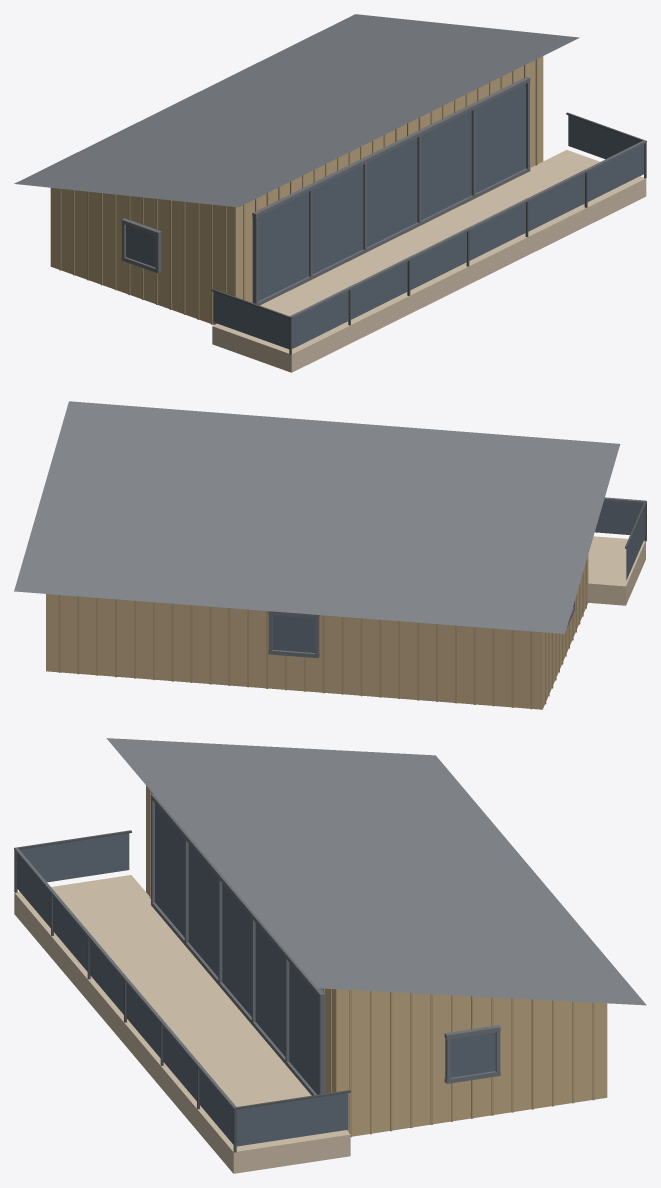
3 renders of one model, top to bottom at view 1: azimuth 30°, elevation 25°; view 2: azimuth 150°, elevation 25°; view 3: azimuth 270°, elevation 25°, orthographic. The views are drawn at different scales.
Visible parts, largest first — view 1: slate, door_wood, larch, slate_dk, window_glass_010, door_wood_p, window_glass_011, window_glass_012, window_glass_009, window_glass_013, window_glass_007, window_glass_006 (+8 smaller); view 2: slate, door_wood, door_wood_p, larch, window_glass_015, window_glass_001, slate_dk, window_glass_007; view 3: slate, door_wood, larch, slate_dk, door_wood_p, window_glass_008, window_glass_007, window_glass_010, window_glass_012, window_glass_011, window_glass_009, window_glass_013 (+8 smaller).
Part boxes in pixels (x1,y1,x2,y2): slate: (14, 14, 579, 207); door_wood: (50, 56, 543, 324); larch: (212, 150, 646, 372); slate_dk: (121, 76, 646, 318); window_glass_010: (312, 165, 363, 273); door_wood_p: (59, 59, 537, 324); window_glass_011: (367, 138, 417, 247); window_glass_012: (421, 111, 471, 220); window_glass_009: (258, 192, 308, 301); window_glass_013: (475, 84, 525, 192); window_glass_007: (213, 292, 289, 349); window_glass_006: (587, 144, 644, 201); slate: (14, 401, 620, 633); door_wood: (46, 555, 588, 709); door_wood_p: (58, 559, 586, 709); larch: (588, 536, 645, 605); window_glass_015: (272, 615, 314, 652); window_glass_001: (595, 500, 643, 534); slate_dk: (268, 497, 645, 658); window_glass_007: (626, 507, 645, 580); slate: (106, 738, 646, 1005); door_wood: (146, 785, 607, 1136); larch: (14, 875, 350, 1173); slate_dk: (14, 794, 500, 1109); door_wood_p: (149, 790, 594, 1137); window_glass_008: (236, 1093, 348, 1146); window_glass_007: (20, 833, 129, 882); window_glass_010: (188, 843, 218, 976); window_glass_012: (255, 923, 285, 1056); window_glass_011: (222, 883, 251, 1016); window_glass_009: (155, 804, 184, 936); window_glass_013: (289, 963, 318, 1094).
Bounding box in the file's own units: 15.78 × 3.87 × 13.24.
